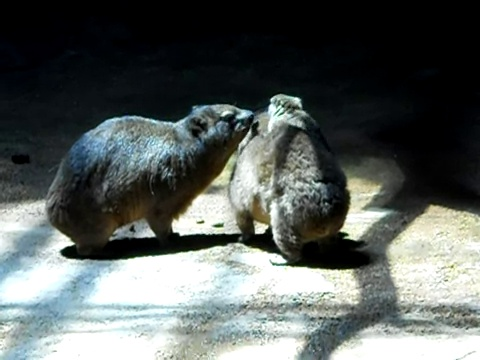Rock Hyrex: (44, 103, 255, 251), (230, 122, 351, 266)
